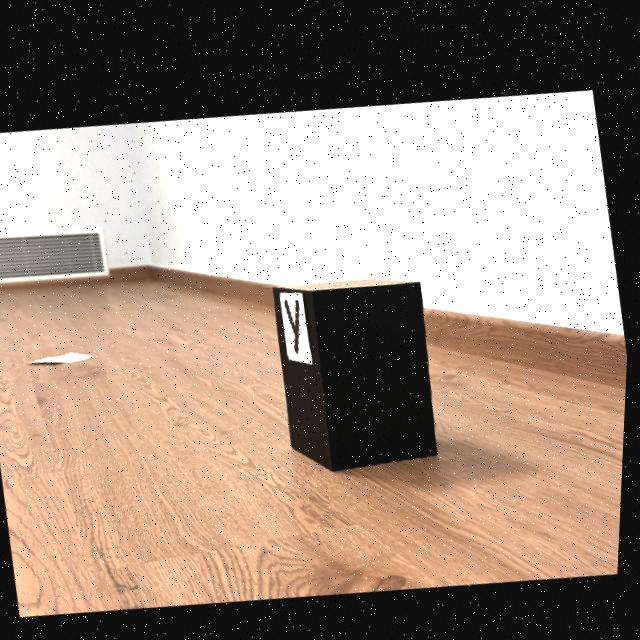Y: (286, 293, 302, 347)
